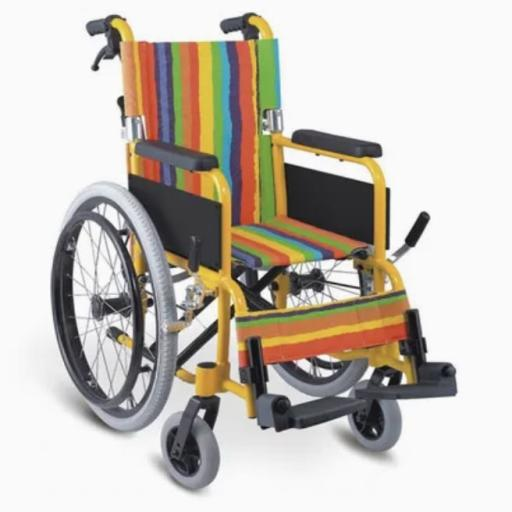wheelchair: (52, 14, 455, 488)
